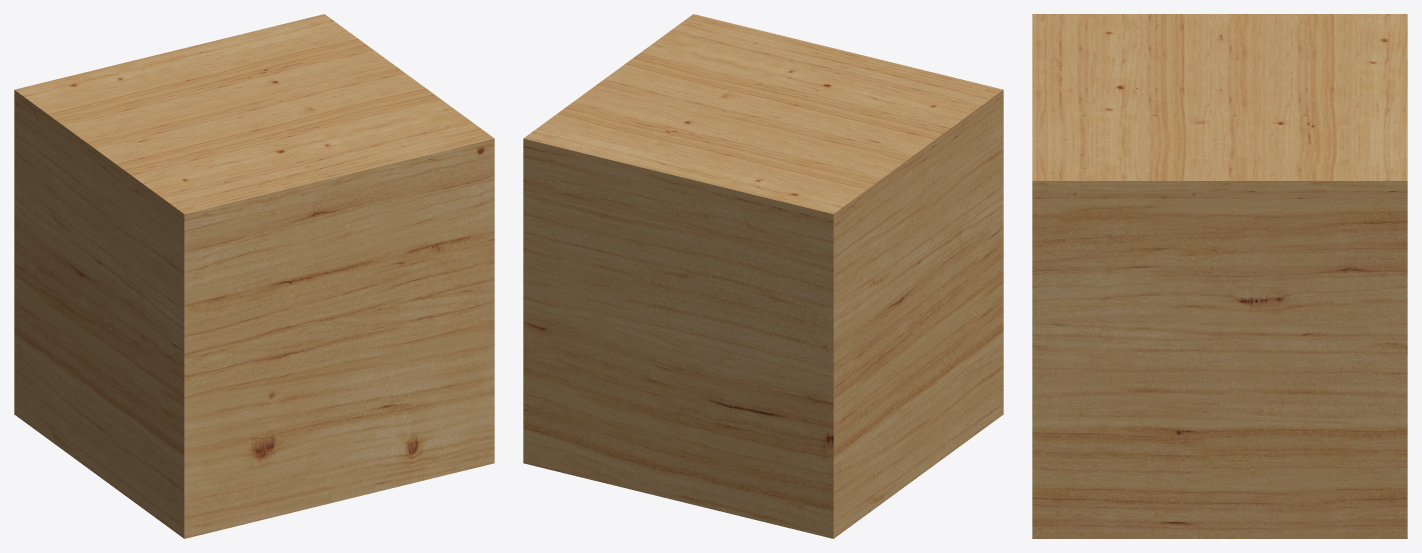
The model's file is chest.dae.
3 renders of one model, left to right at view 1: azimuth 30°, elevation 25°; view 2: azimuth 150°, elevation 25°; view 3: azimuth 270°, elevation 25°, orthographic. The views are drawn at different scales.
Visible parts, largest first — view 1: Cube, Top; view 2: Cube, Top; view 3: Cube, Top.
Part boxes in pixels (x1,y1,x2,y2): Cube: (14, 106, 494, 538); Top: (14, 14, 494, 230); Cube: (523, 106, 1003, 538); Top: (523, 14, 1003, 230); Cube: (1032, 199, 1407, 538); Top: (1032, 14, 1407, 198).
Bounding box in the file's own units: 1 × 0.95 × 1.
1 material, 1 textured.
